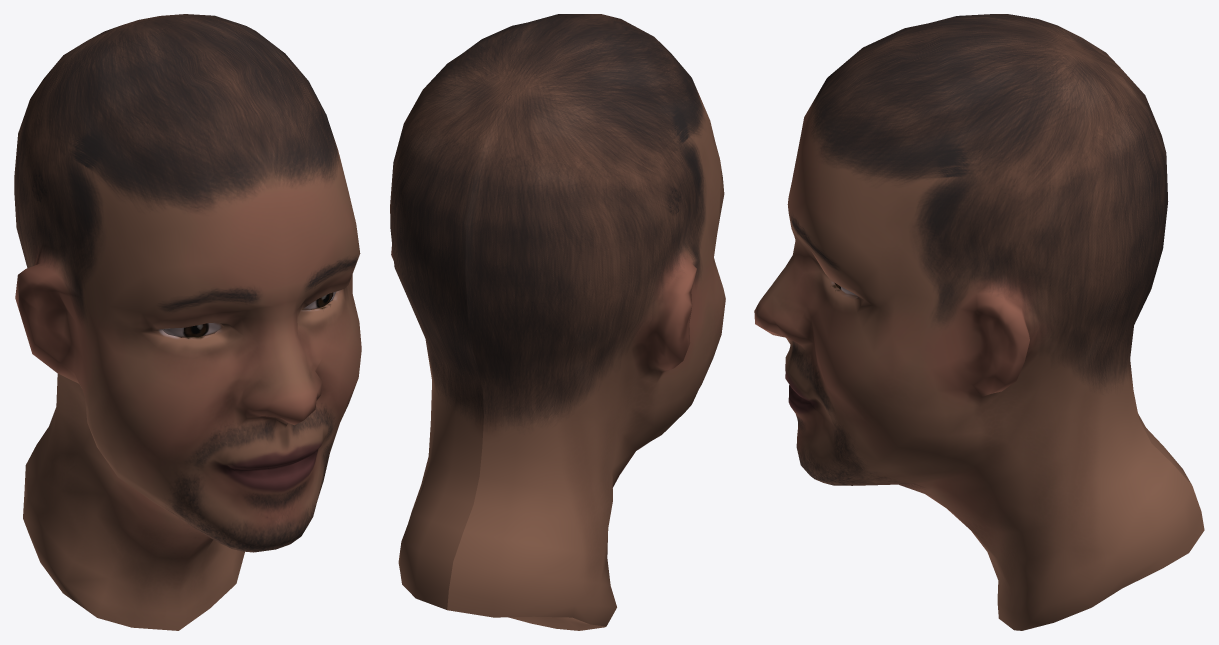
Rendered from realhead.fbx.
3 renders of one model, left to right at view 1: azimuth 30°, elevation 25°; view 2: azimuth 150°, elevation 25°; view 3: azimuth 270°, elevation 25°, orthographic. The views are drawn at different scales.
Visible parts, largest first — view 1: Asian Male Head; view 2: Asian Male Head; view 3: Asian Male Head.
Boxes of the visible parts, bbox=[...] form: Asian Male Head: bbox=[14, 14, 361, 630]; Asian Male Head: bbox=[390, 14, 725, 630]; Asian Male Head: bbox=[754, 14, 1204, 630].
Bounding box in the file's own units: 358 × 677 × 469.
